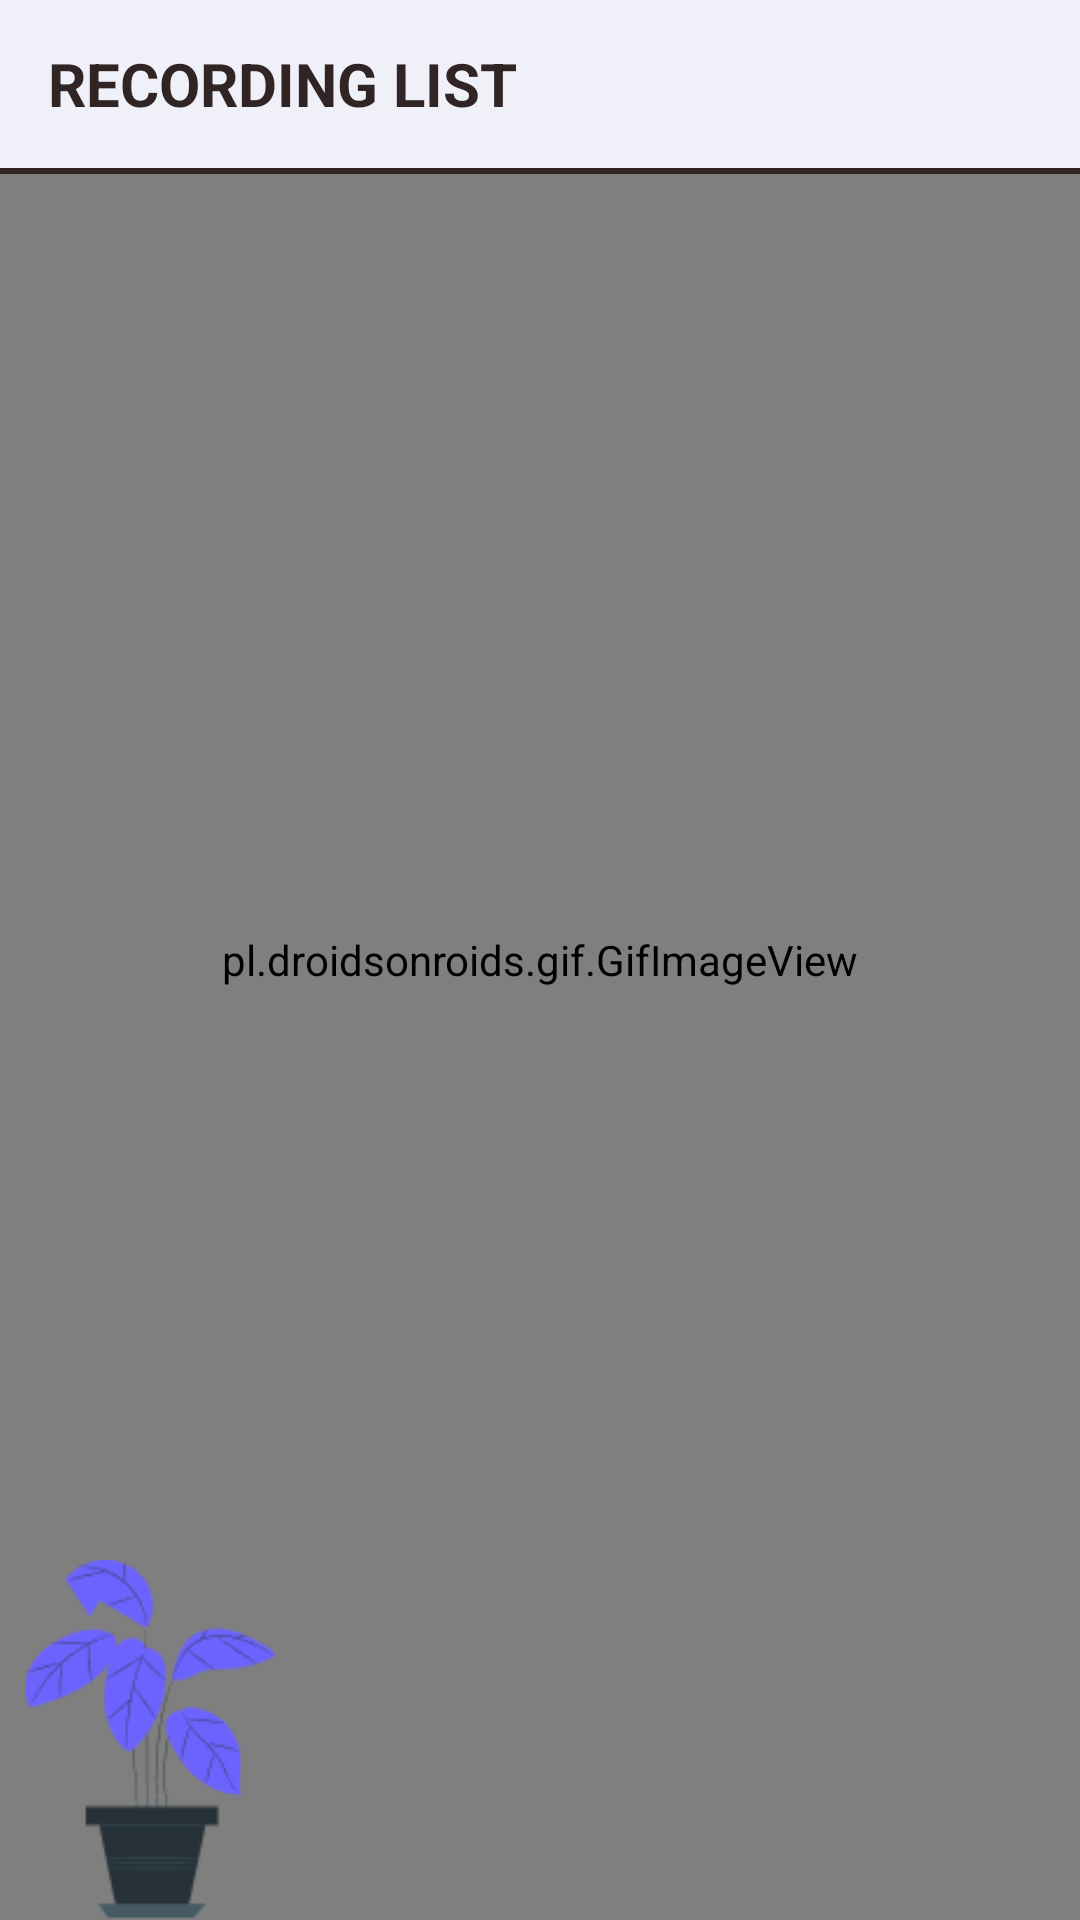

Named icons in this screenshot (1080*1920) and their bounding boxes, (x1, y1, x2, y2):
imggamla: (25, 1560, 275, 1918)
